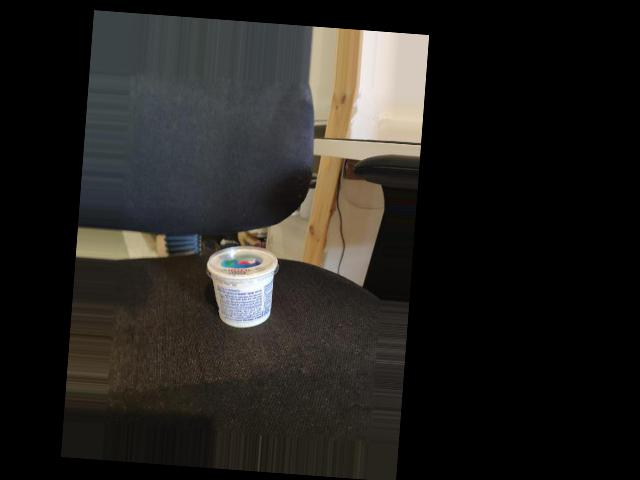cotage: (205, 237, 273, 330)
